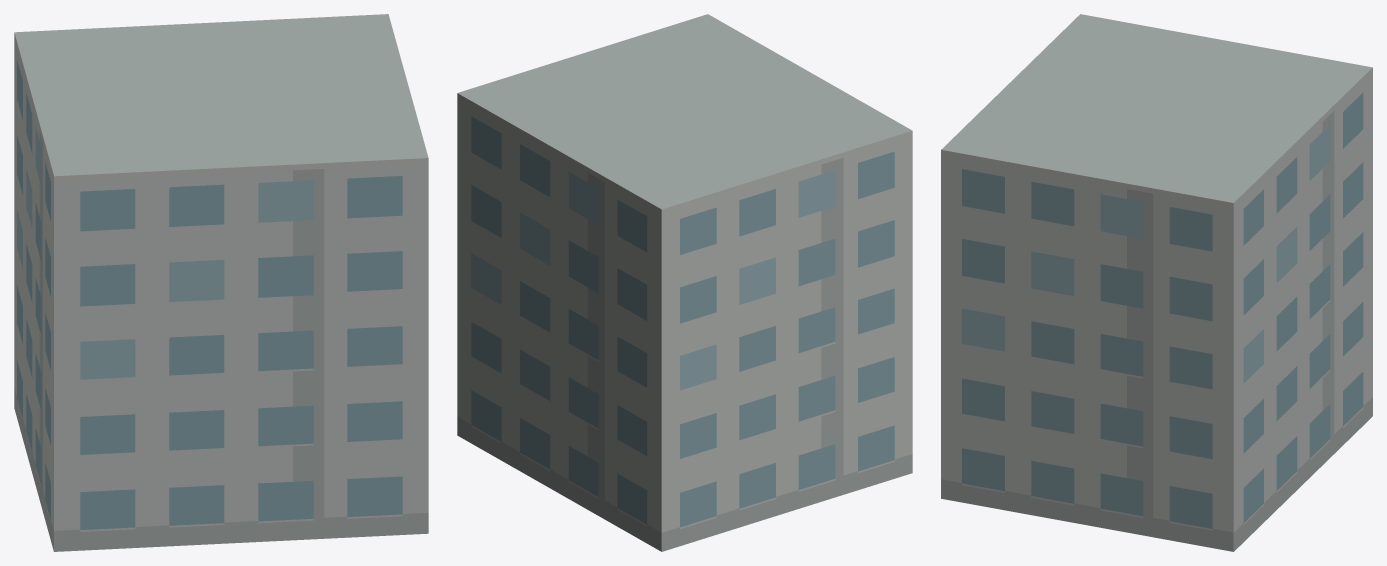
Rendered from survey-upis-32887690.glb.
3 renders of one model, left to right at view 1: azimuth 30°, elevation 25°; view 2: azimuth 150°, elevation 25°; view 3: azimuth 270°, elevation 25°, orthographic. The views are drawn at different scales.
Visible parts, largest first — view 1: survey-upis-32887690.tmp; view 2: survey-upis-32887690.tmp; view 3: survey-upis-32887690.tmp.
Boxes of the visible parts, left/top/right/bottom form: survey-upis-32887690.tmp: left=14, top=14, right=428, bottom=551; survey-upis-32887690.tmp: left=457, top=14, right=912, bottom=551; survey-upis-32887690.tmp: left=941, top=14, right=1372, bottom=551.
Size of the model in its own units: 18.37 by 15.8 by 17.73.
